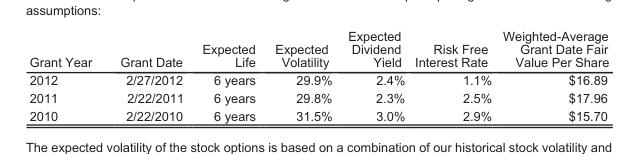table: (28, 28, 608, 122)
table column: (496, 28, 608, 122), (105, 28, 192, 122), (409, 28, 496, 122), (28, 28, 105, 122), (264, 28, 339, 122), (192, 28, 264, 122), (339, 28, 409, 122)
table column header: (28, 28, 608, 70)
table row: (28, 28, 608, 70), (28, 70, 608, 88), (28, 88, 608, 106), (28, 106, 608, 122)
